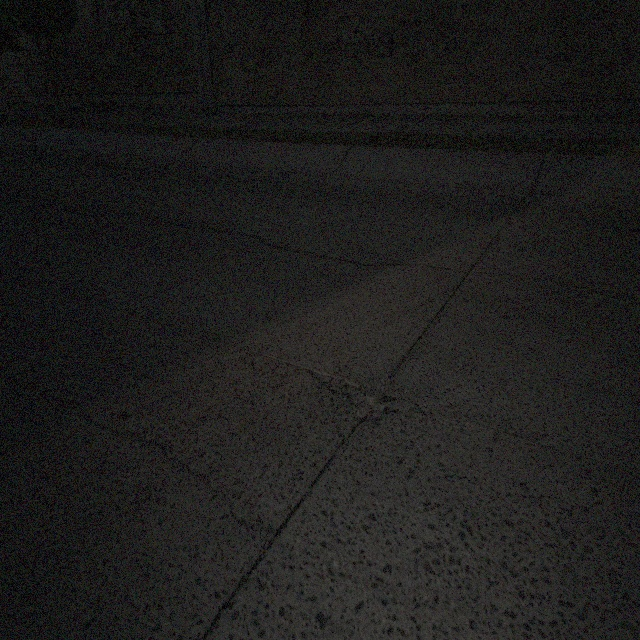pothole: (315, 365, 387, 414)
